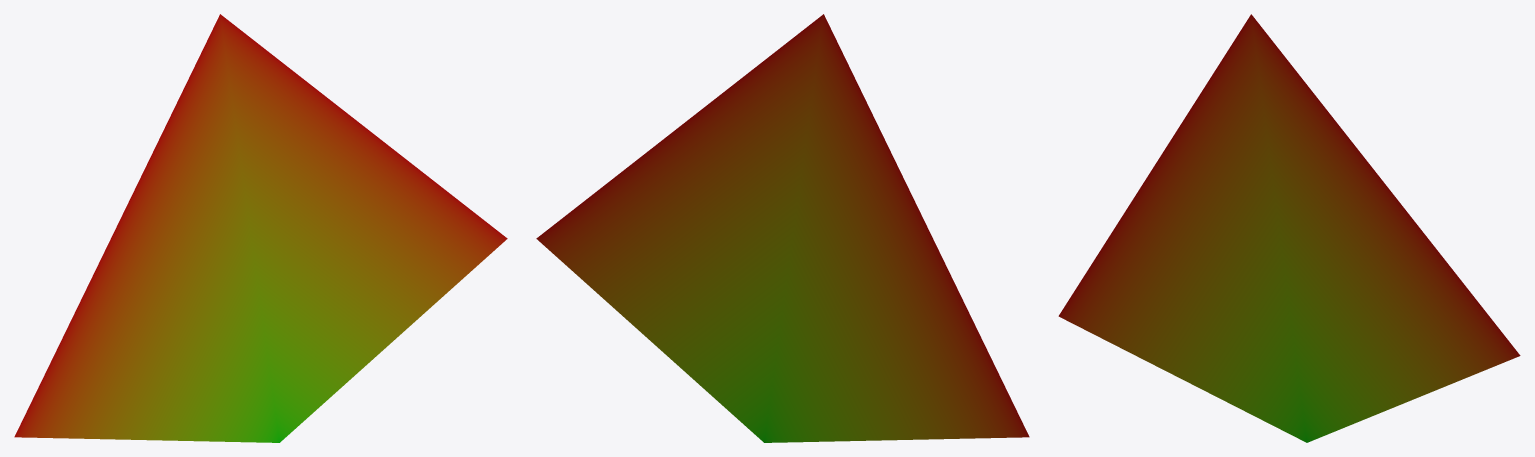
Rendered from Black Locust_LOD4_Var6.fbx.
The picture shows the model from 3 angles, left to right: view 1: azimuth 30°, elevation 25°; view 2: azimuth 150°, elevation 25°; view 3: azimuth 330°, elevation 25°; orthographic projection. The views are drawn at different scales.
Parts seen in each view (by area): view 1: _we98_Var6_LOD4; view 2: _we98_Var6_LOD4; view 3: _we98_Var6_LOD4.
Boxes of the visible parts, x1,y1,x2,y2 form: _we98_Var6_LOD4: (14,14,507,442); _we98_Var6_LOD4: (536,14,1029,442); _we98_Var6_LOD4: (1058,14,1520,442).
Size of the model in its own units: 26.64 by 22.88 by 5.09e-11.
